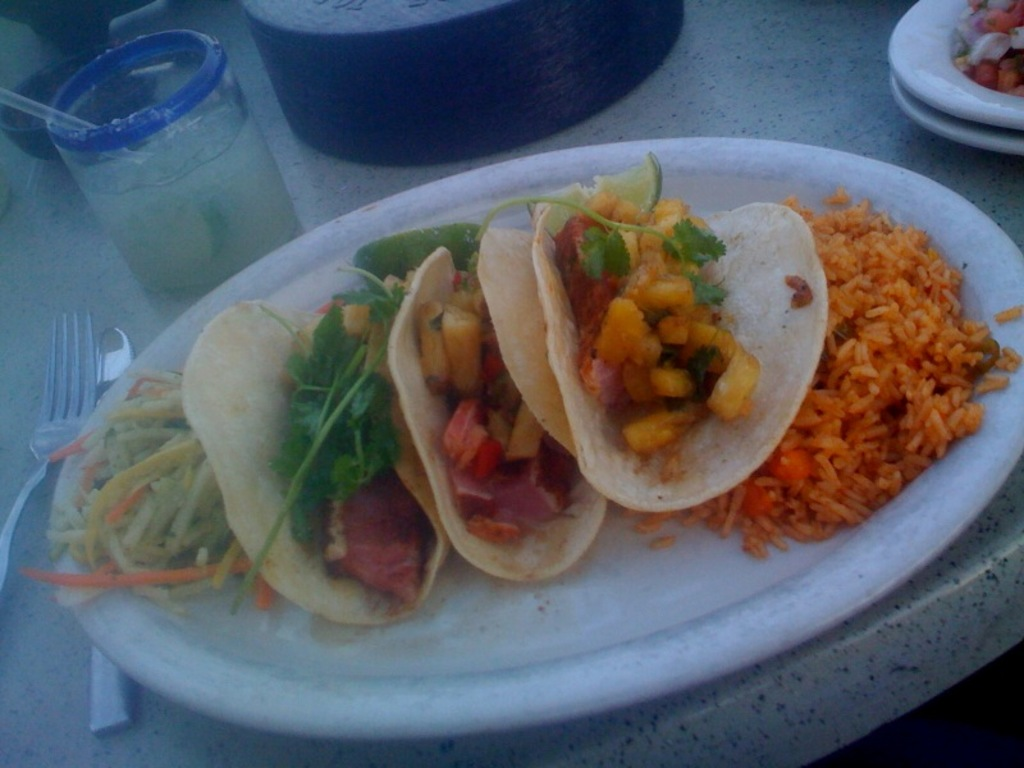taco: (172, 276, 454, 627), (531, 204, 827, 513), (381, 216, 620, 581)
